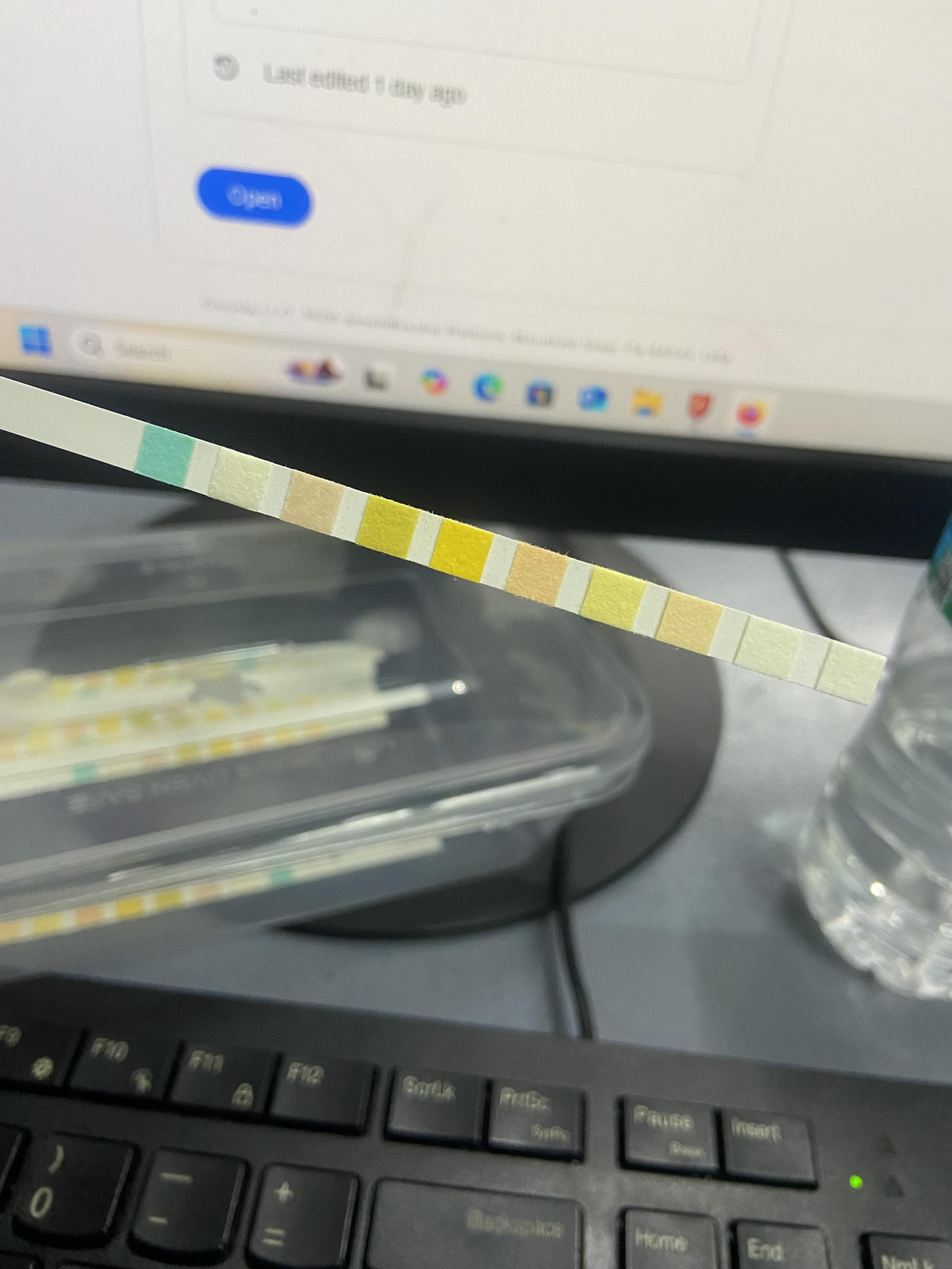Bilirubin: (217, 462, 262, 500)
Blood: (440, 532, 483, 573)
Glucose: (145, 437, 187, 475)
Ketone: (290, 483, 334, 522)
Leukocytes: (830, 652, 874, 694)
Nitrite: (747, 628, 792, 667)
Protein: (591, 577, 635, 618)
SpGravity: (365, 507, 408, 545)
Urobilinogen: (668, 601, 710, 643)
pH: (515, 556, 558, 595)
strip: (0, 376, 887, 705)
